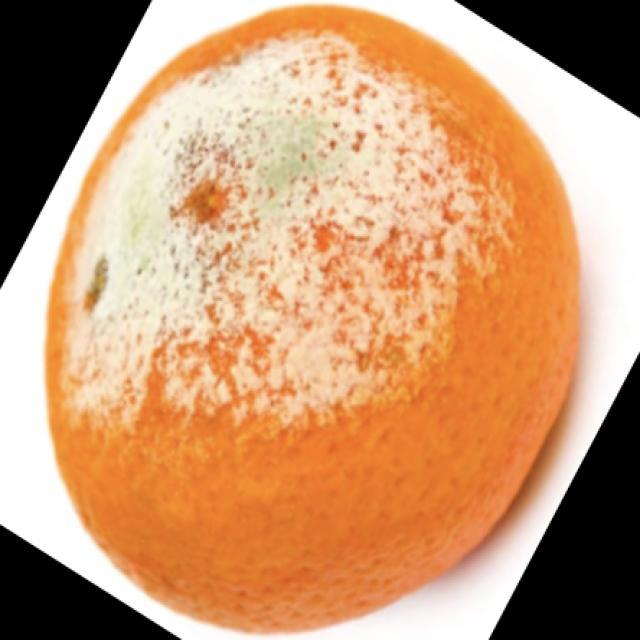sedikit-busuk: (47, 6, 579, 631)
